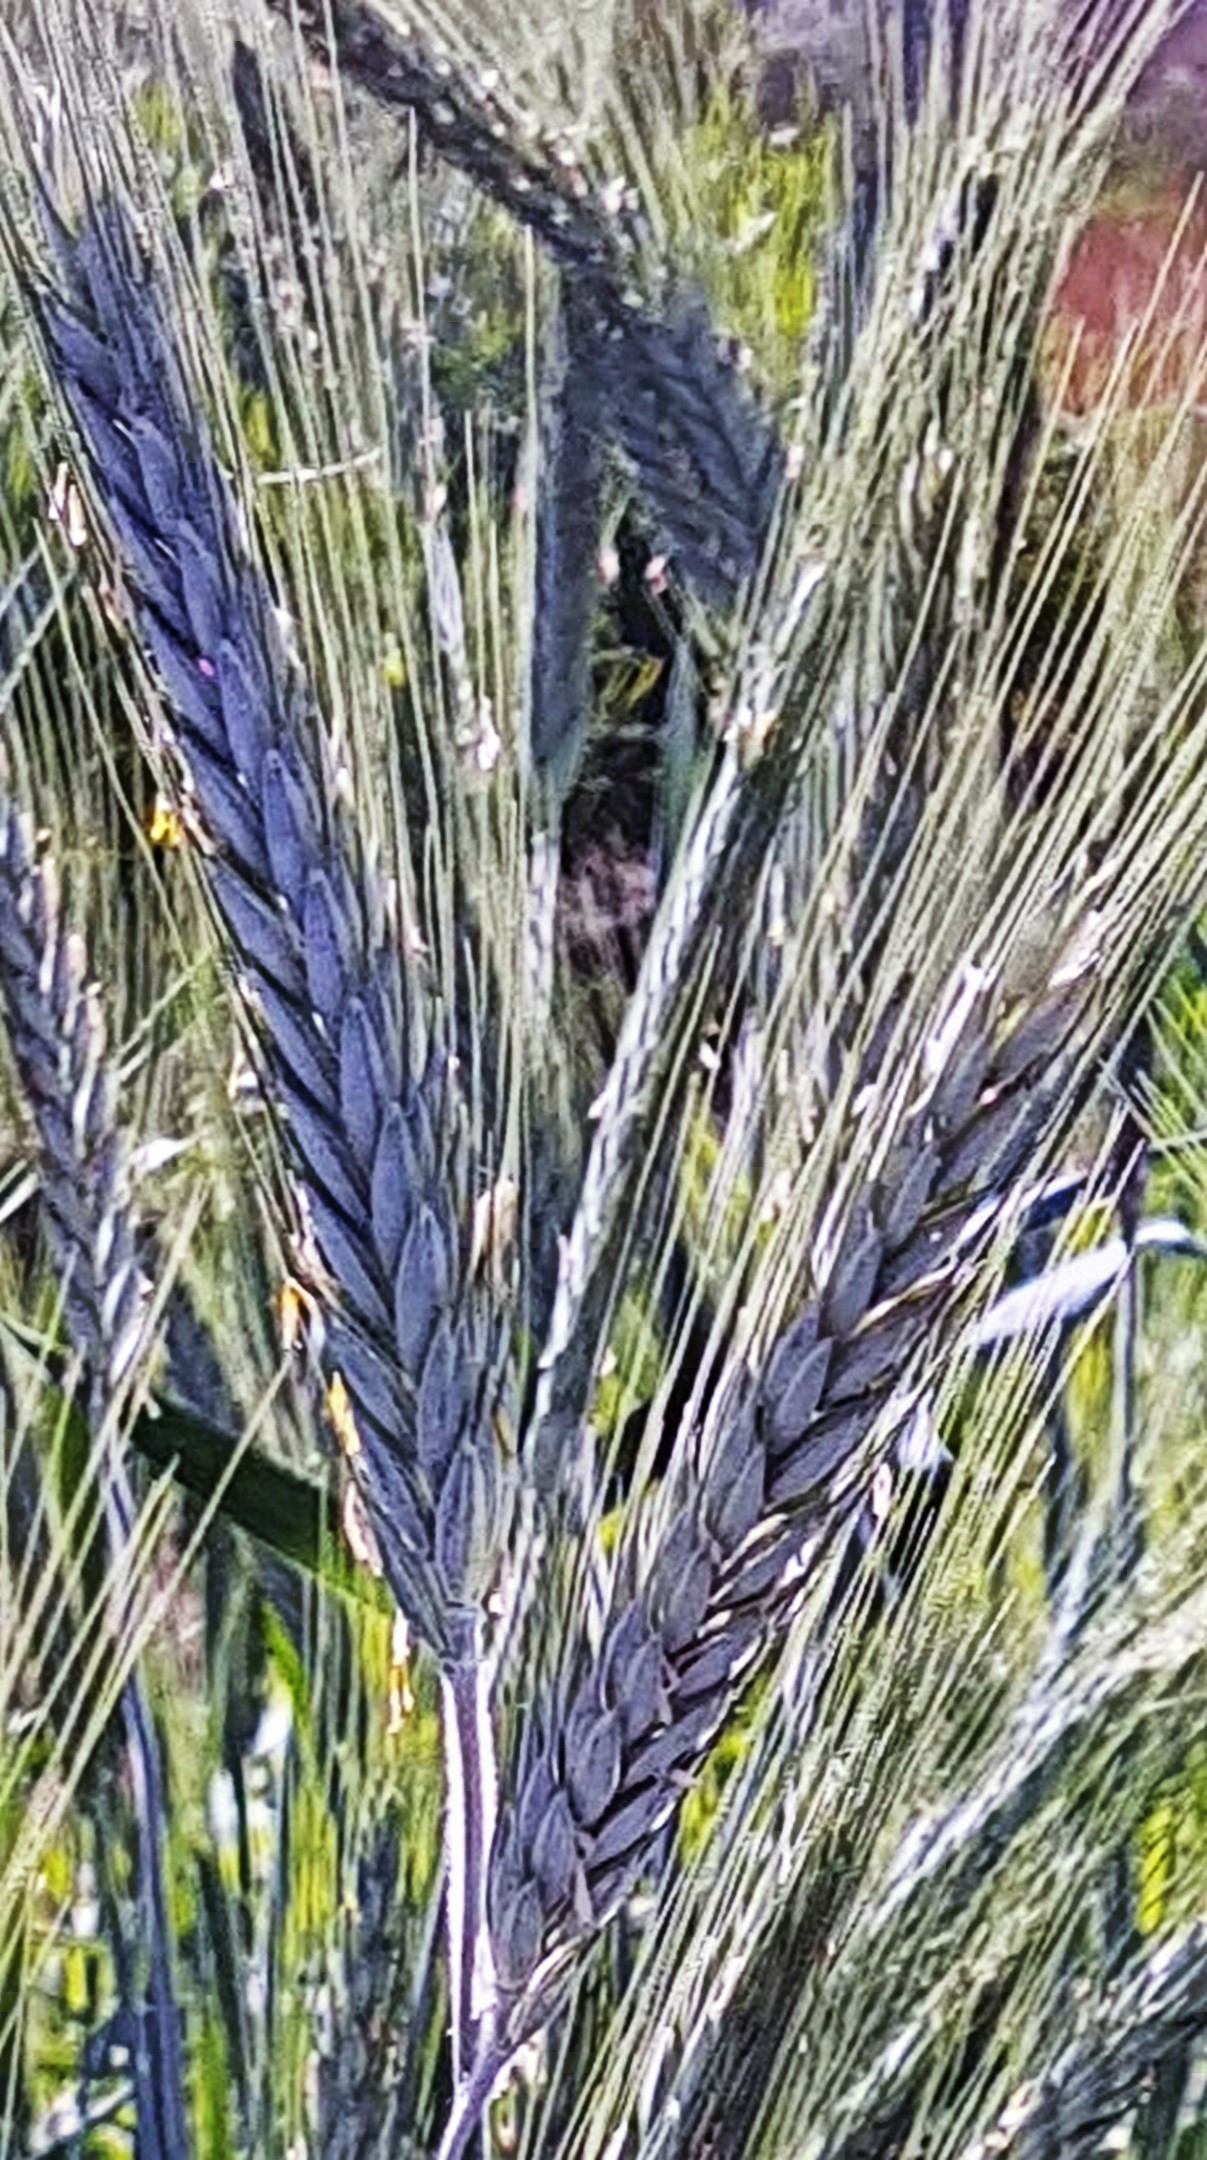Healthy Wheat: (504, 938, 1118, 1949)
